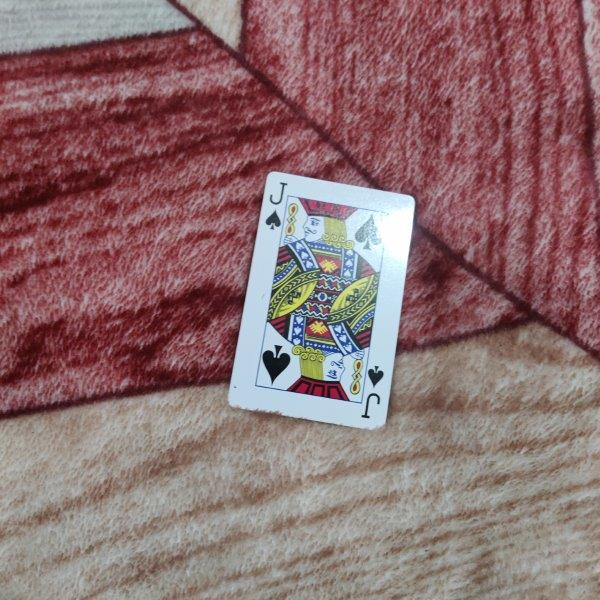Jack of Spades: (227, 170, 415, 429)
